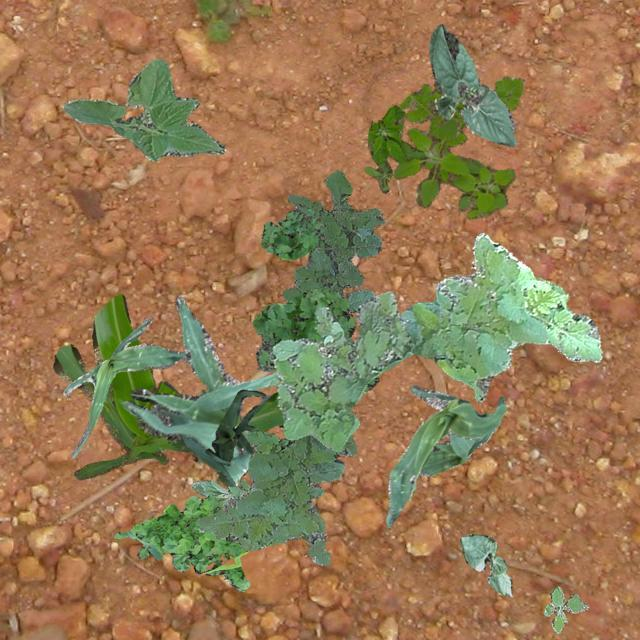crop: (51, 292, 282, 478), (120, 294, 278, 486), (62, 316, 188, 456), (384, 384, 506, 528), (62, 59, 225, 160), (428, 23, 516, 146), (418, 396, 502, 476), (204, 388, 266, 484), (459, 532, 511, 596)
weed: (268, 232, 600, 450), (197, 426, 356, 564), (281, 168, 384, 312), (114, 492, 248, 590), (252, 288, 378, 392), (392, 118, 516, 218), (398, 74, 524, 154), (364, 104, 424, 192), (260, 208, 320, 260), (544, 586, 588, 632), (190, 478, 250, 507)
